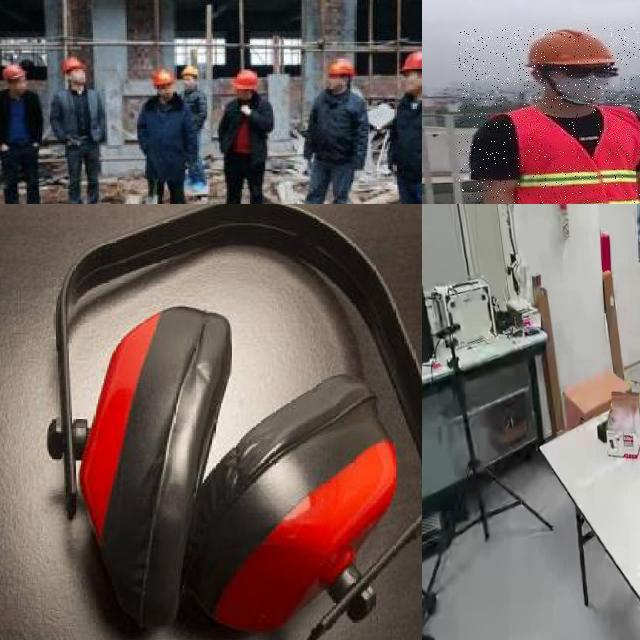Ear-protection: (60, 204, 422, 640)
face_mask: (68, 67, 86, 85)
face_nomask: (399, 70, 421, 94), (324, 72, 342, 94), (12, 75, 28, 94), (158, 83, 175, 100)
head_helmet: (522, 28, 610, 67), (231, 67, 261, 90), (326, 55, 355, 77), (399, 47, 422, 74), (150, 67, 174, 87), (61, 55, 85, 74), (1, 62, 25, 80), (180, 63, 202, 77)
person: (459, 26, 640, 204), (300, 56, 368, 204), (51, 54, 107, 204), (137, 63, 190, 204), (220, 68, 271, 204), (0, 62, 47, 204), (387, 48, 422, 204)
vest: (499, 107, 640, 204)
